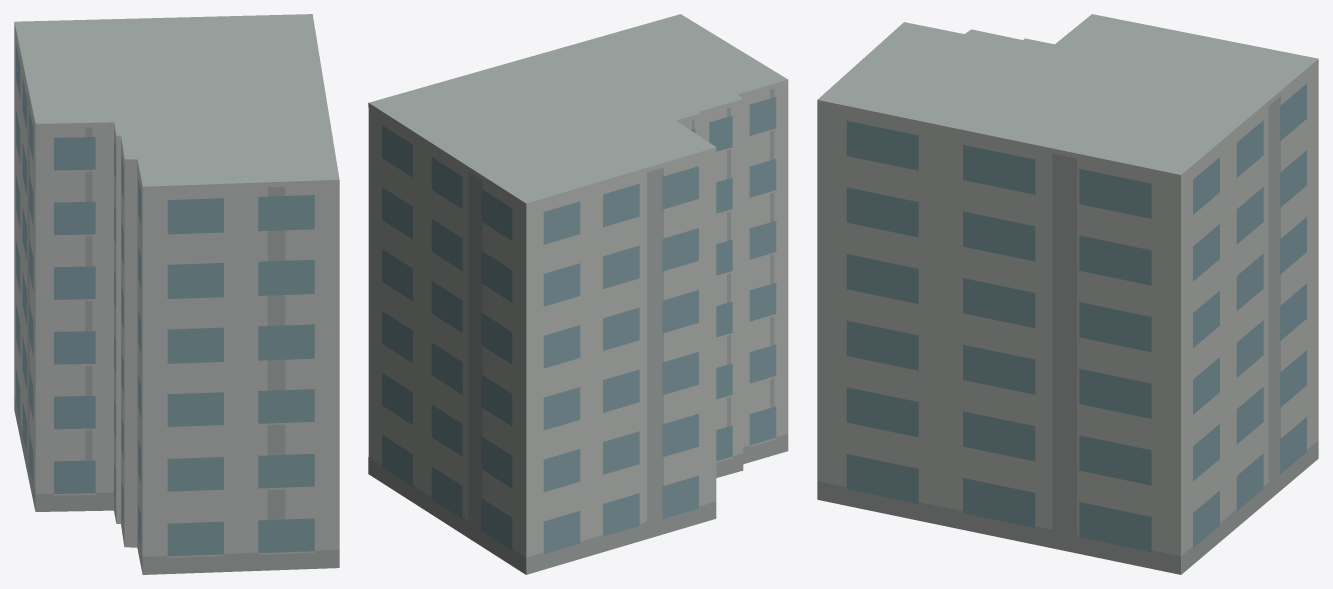
Rendered from survey-upis-32995622.glb.
3 views of the same model, side by side, from view 1: azimuth 30°, elevation 25°; view 2: azimuth 150°, elevation 25°; view 3: azimuth 270°, elevation 25° (orthographic). The views are drawn at different scales.
Parts seen in each view (by area): view 1: survey-upis-32995622.tmp; view 2: survey-upis-32995622.tmp; view 3: survey-upis-32995622.tmp.
Boxes of the visible parts, x1,y1,x2,y2 form: survey-upis-32995622.tmp: (14, 14, 339, 574); survey-upis-32995622.tmp: (368, 14, 788, 574); survey-upis-32995622.tmp: (817, 14, 1318, 574).
Bounding box in the file's own units: 16.59 × 19.2 × 21.83.
